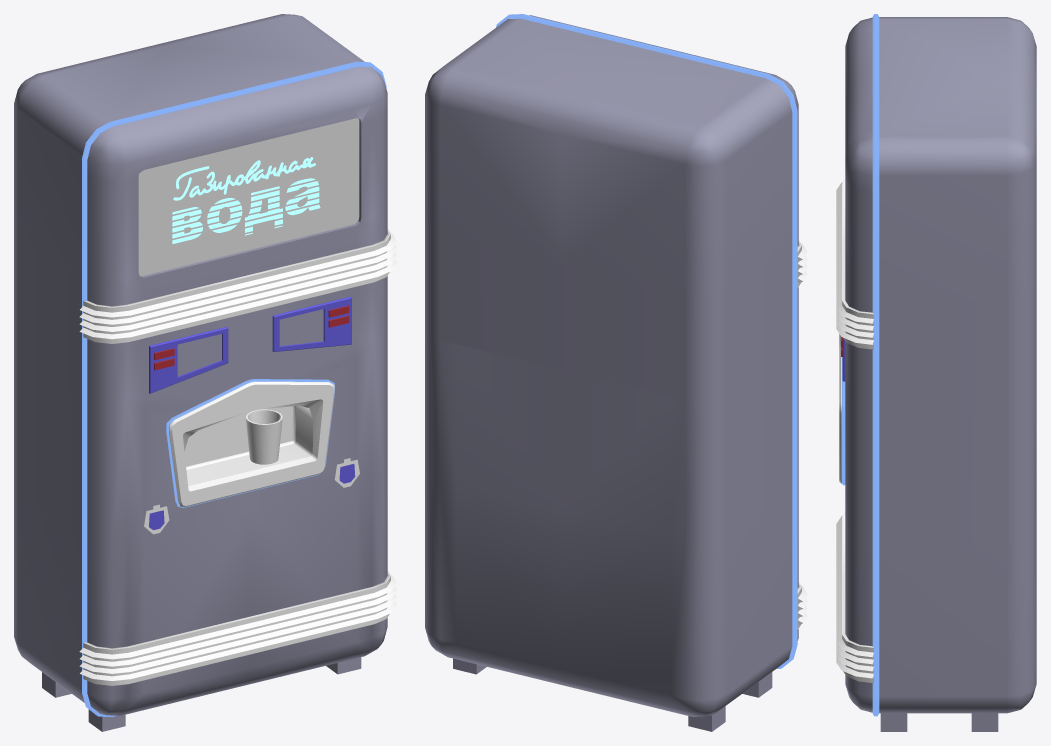
The model's file is SM_Fridge.fbx.
3 views of the same model, side by side, from view 1: azimuth 30°, elevation 25°; view 2: azimuth 150°, elevation 25°; view 3: azimuth 270°, elevation 25° (orthographic). The views are drawn at different scales.
Parts seen in each view (by area): view 1: Mesh_Fridge; view 2: Mesh_Fridge; view 3: Mesh_Fridge.
Boxes of the visible parts, box(x1,y1,x2,y2) form: Mesh_Fridge: box(14, 14, 396, 731); Mesh_Fridge: box(425, 14, 807, 731); Mesh_Fridge: box(836, 14, 1036, 731).
Bounding box in the file's own units: 105 × 196 × 59.76.
